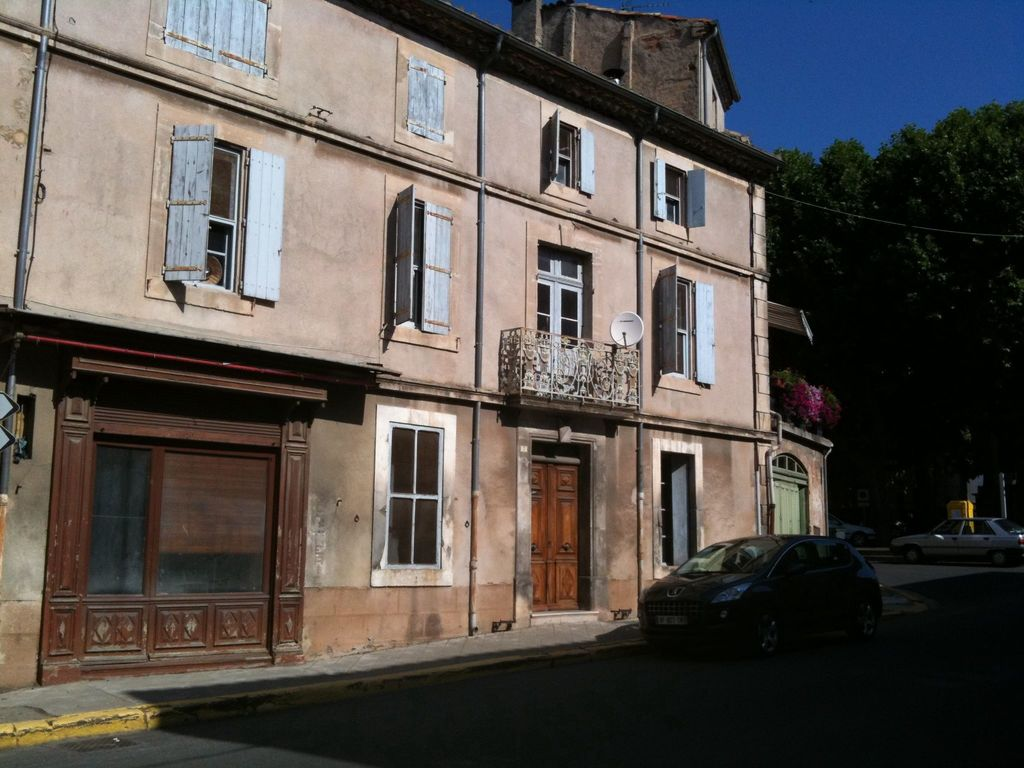car: (618, 507, 907, 669), (921, 499, 1024, 565)
